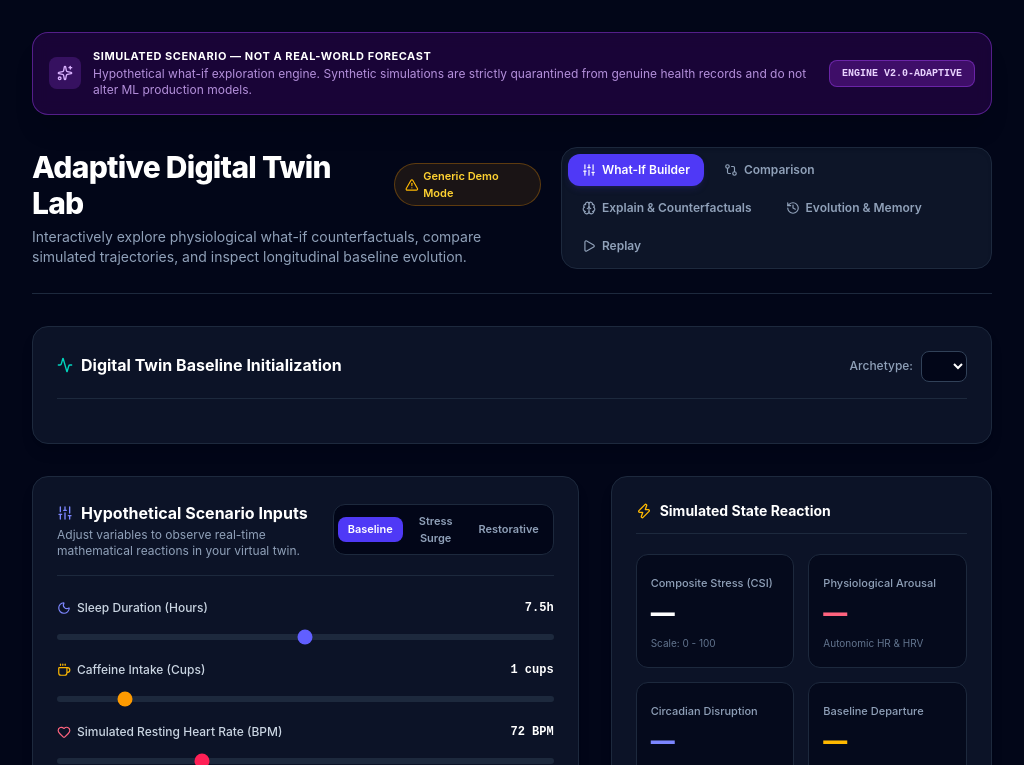
Test: Adaptive Digital Twin & Longitudinal Evolution Engine (Frontend) › navigates to Evolution & Memory tab and renders historical windows and memory governance
This screenshot has width=1024, height=765.
Click the button "Evolution & Memory" at [854, 208], box [772,192,936,224]
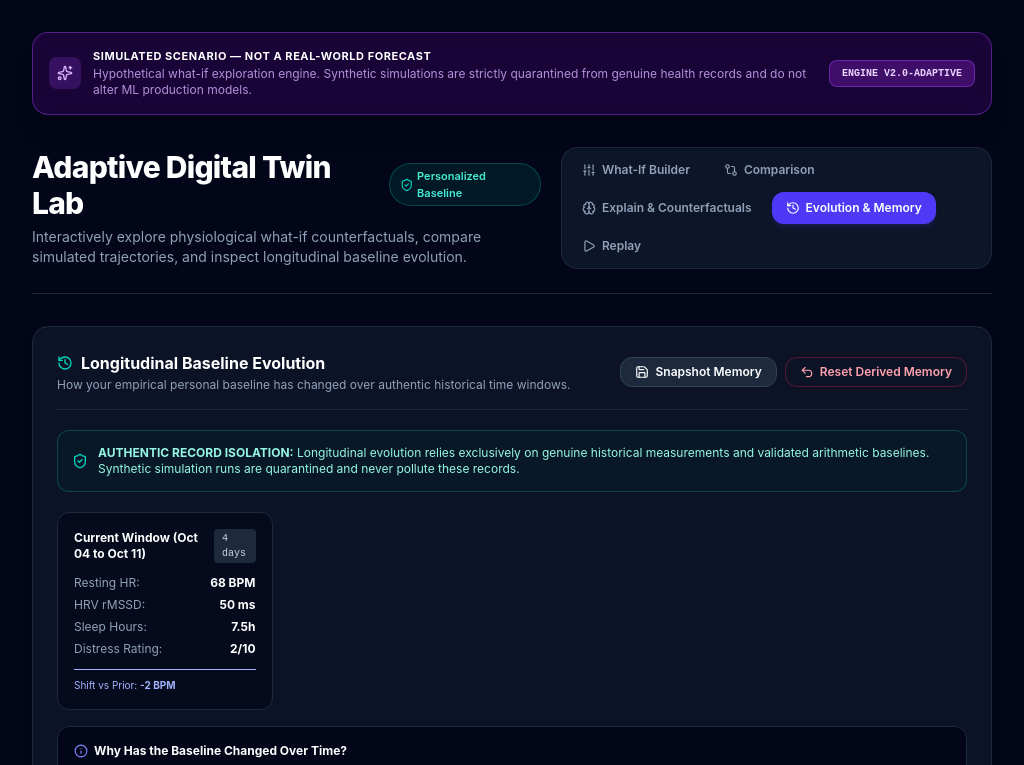
Check: the heading "Longitudinal Baseline Evolution" is shown, box [57,353,325,373]
Check: the text "AUTHENTIC RECORD ISOLATION:" is shown, box [98,445,294,460]
